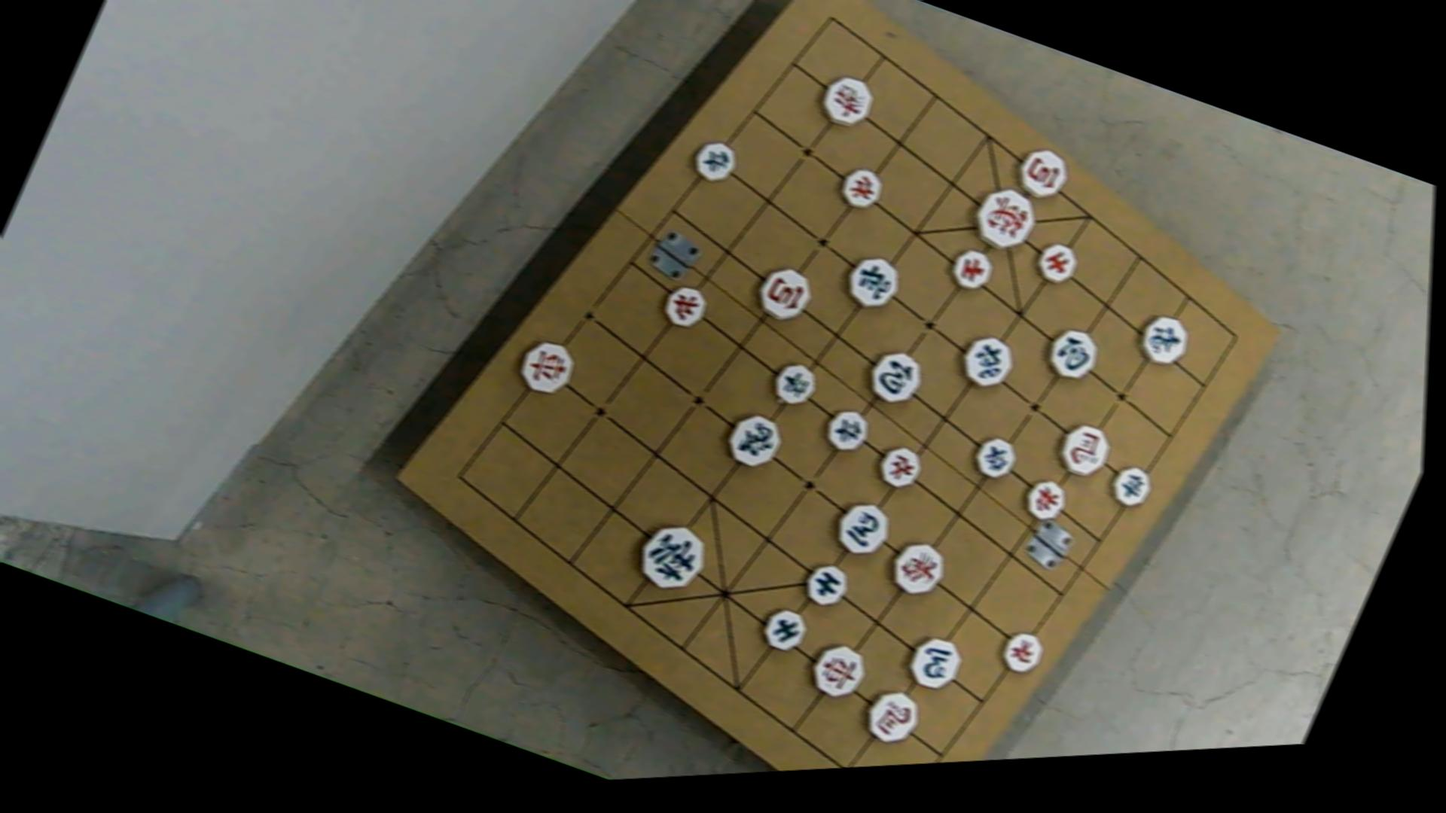cha_green: (836, 248, 905, 315), (952, 330, 1018, 396)
cha_red: (510, 333, 581, 402), (803, 636, 871, 704)
jol_green: (766, 356, 822, 410), (688, 135, 743, 187), (1104, 461, 1158, 513), (968, 434, 1021, 486), (822, 403, 874, 455)
jol_red: (993, 624, 1047, 678), (655, 279, 710, 332), (871, 443, 925, 495), (834, 162, 887, 214), (1018, 474, 1070, 526)
ma_green: (829, 497, 898, 564), (901, 629, 969, 695)
ma_red: (857, 685, 925, 752), (1051, 419, 1115, 484)
po_green: (862, 343, 929, 411), (1040, 322, 1106, 386)
po_red: (1005, 139, 1075, 208), (751, 260, 819, 328)
sa_green: (797, 559, 852, 612), (758, 603, 813, 656)
sa_red: (1033, 238, 1085, 290), (944, 245, 996, 296)
sang_green: (719, 407, 788, 474), (1130, 308, 1194, 371)
sang_red: (886, 535, 953, 602), (816, 68, 880, 132)
wang_green: (630, 516, 715, 598)
wang_red: (964, 180, 1042, 258)
